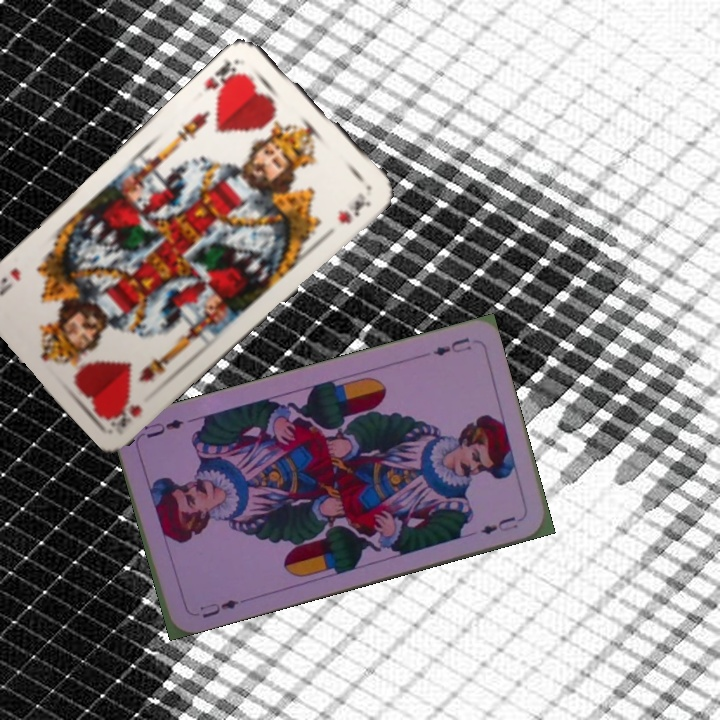EU: (196, 595, 241, 621), (429, 333, 474, 359)
HK: (200, 54, 248, 101), (112, 400, 145, 431)
